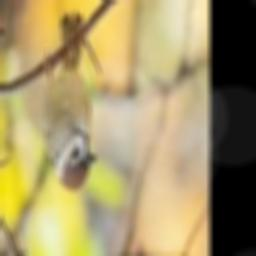Sparrow: (44, 15, 95, 188)
